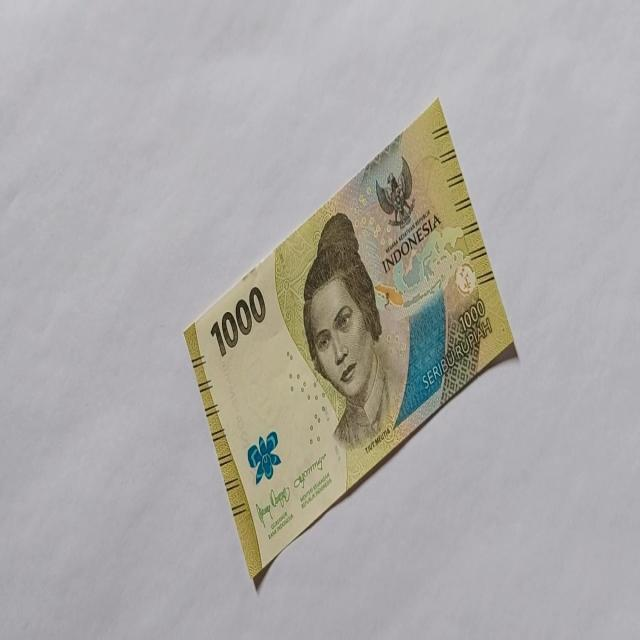seribu rupiah kertas: (182, 96, 519, 582)
